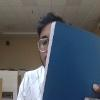notebook: (41, 20, 99, 99)
